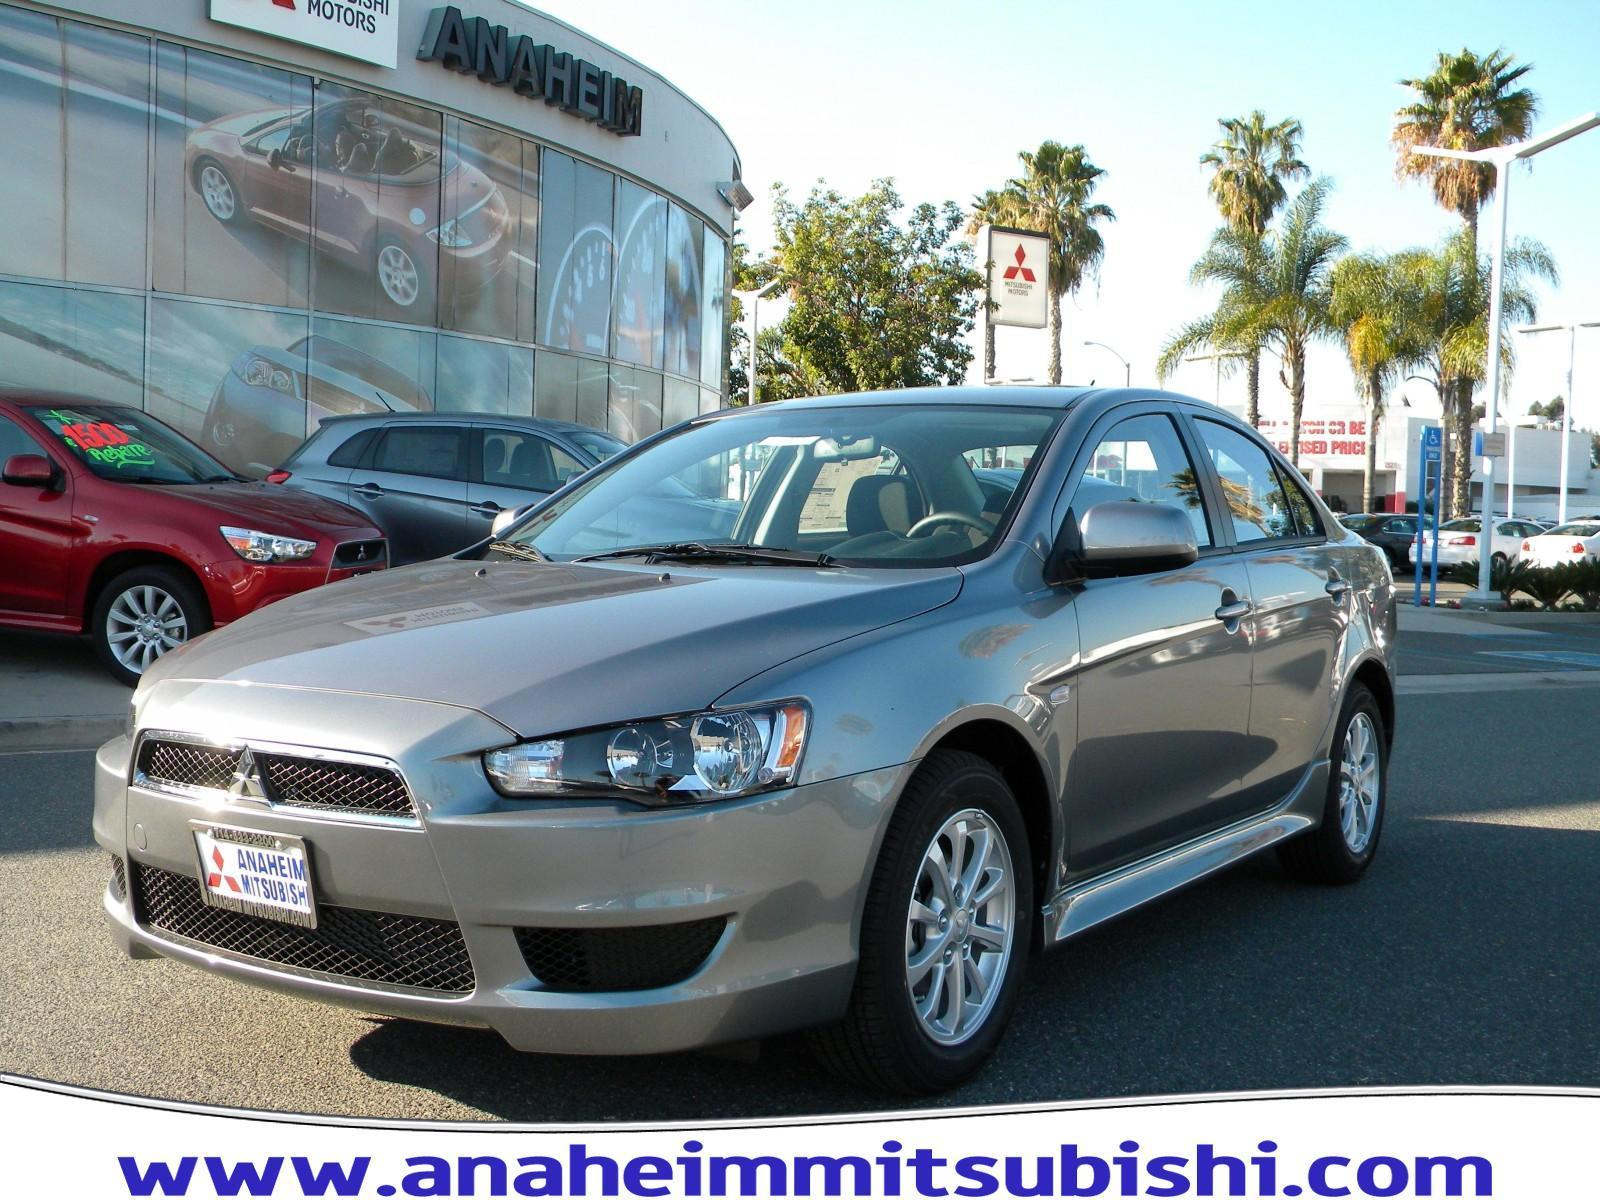Mitsubishi: (195, 734, 294, 811)
